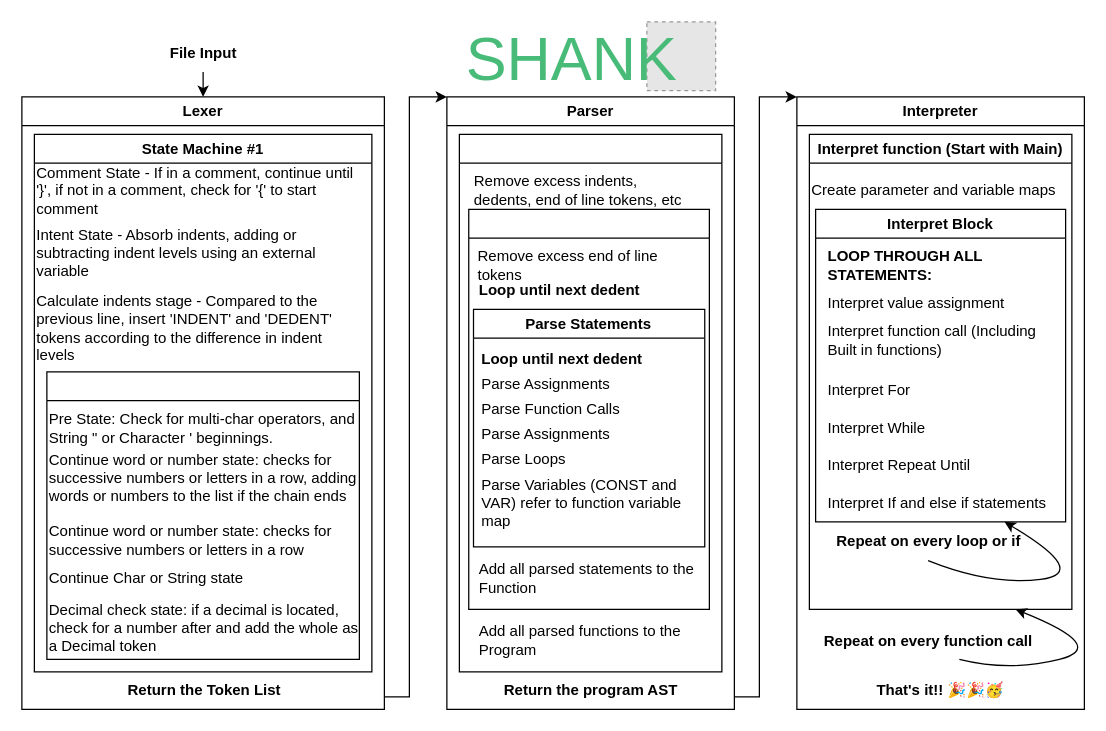
The diagram is 1106 pixels wide and 731 high, and some of its shapes have lost their labels. Grey dashed boxes stand in for pictures. Here are the shapes that lost their labels. From the top down, the box of each, then its label:
(468, 208, 709, 609): Parse Functions
(458, 133, 722, 672): Parse Program
(46, 371, 359, 659): State Machine #2 (MAIN STAGE)
